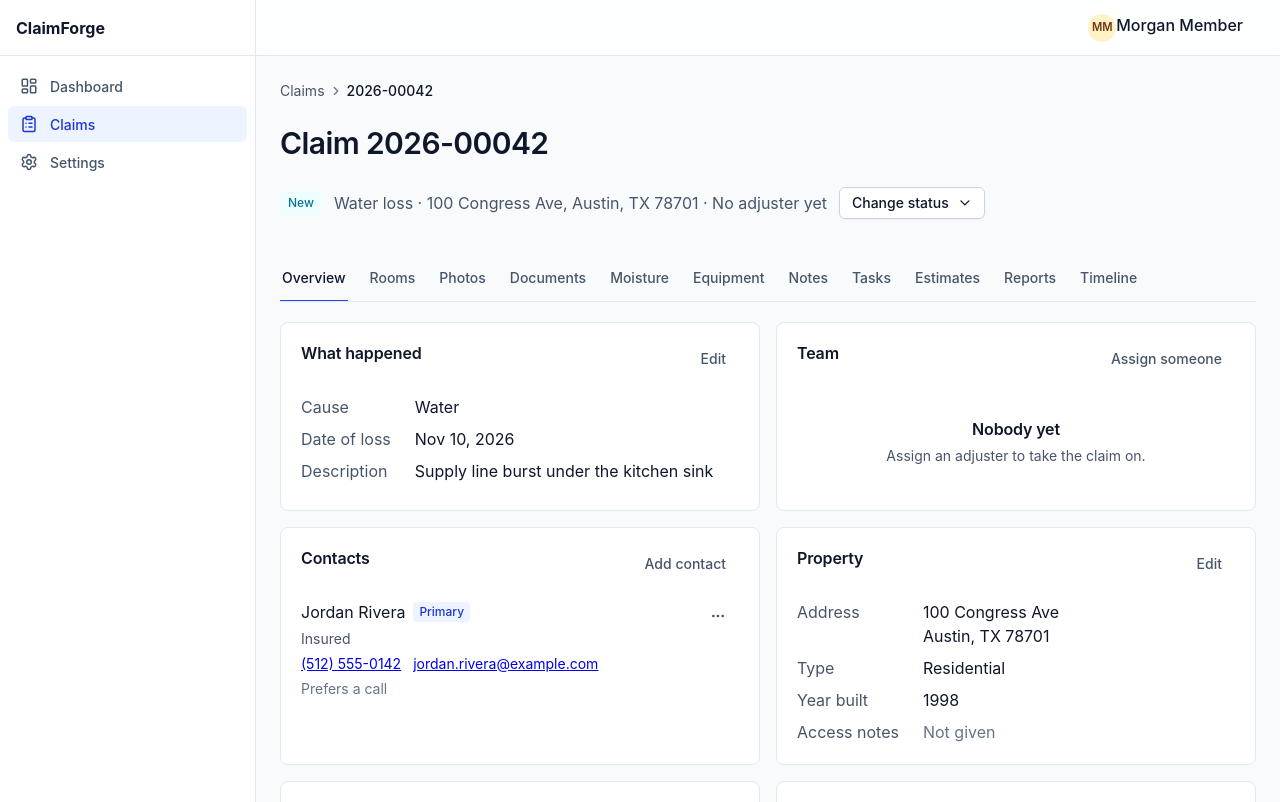
Scenario: changing the status › a move the workflow wants explained asks why first
Click the button "Change status" at (912, 202), box [839,186,986,218]
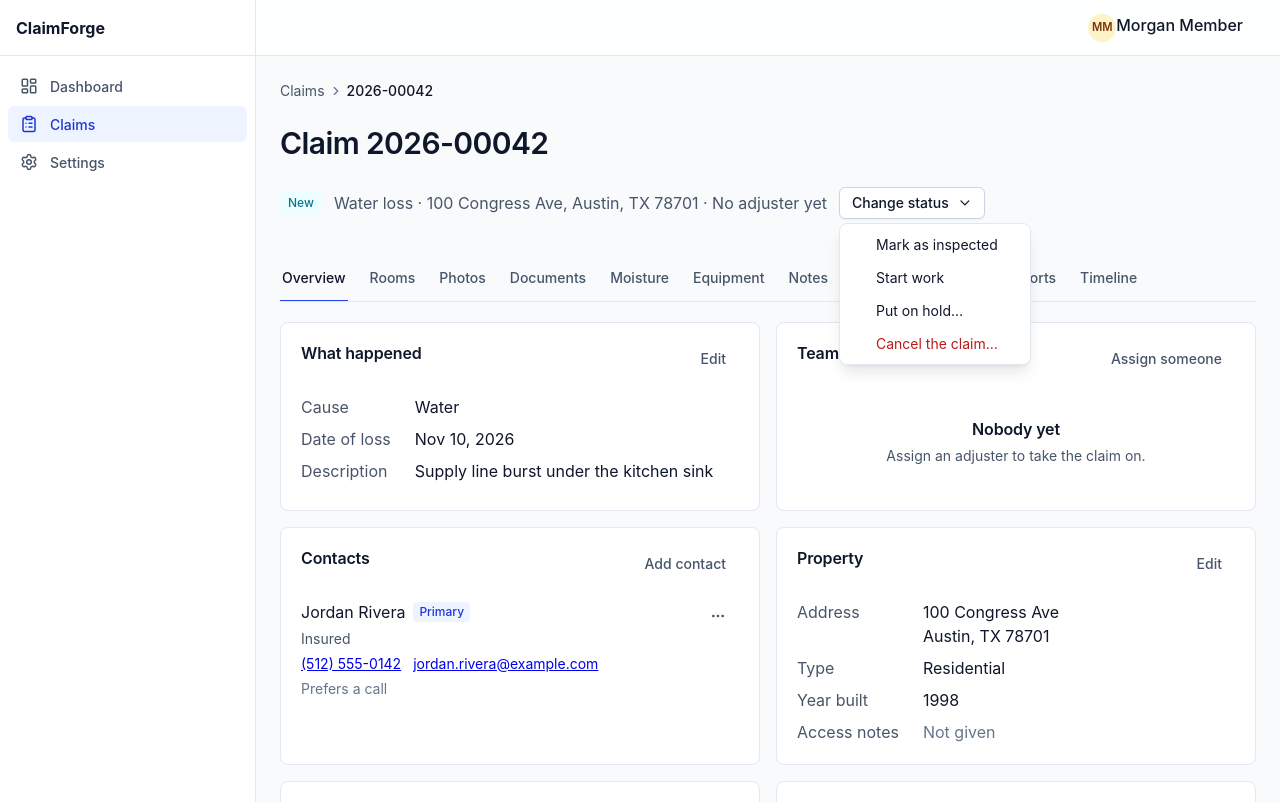
Click the menu item "Put on hold…" at (920, 310), box [876,302,963,319]
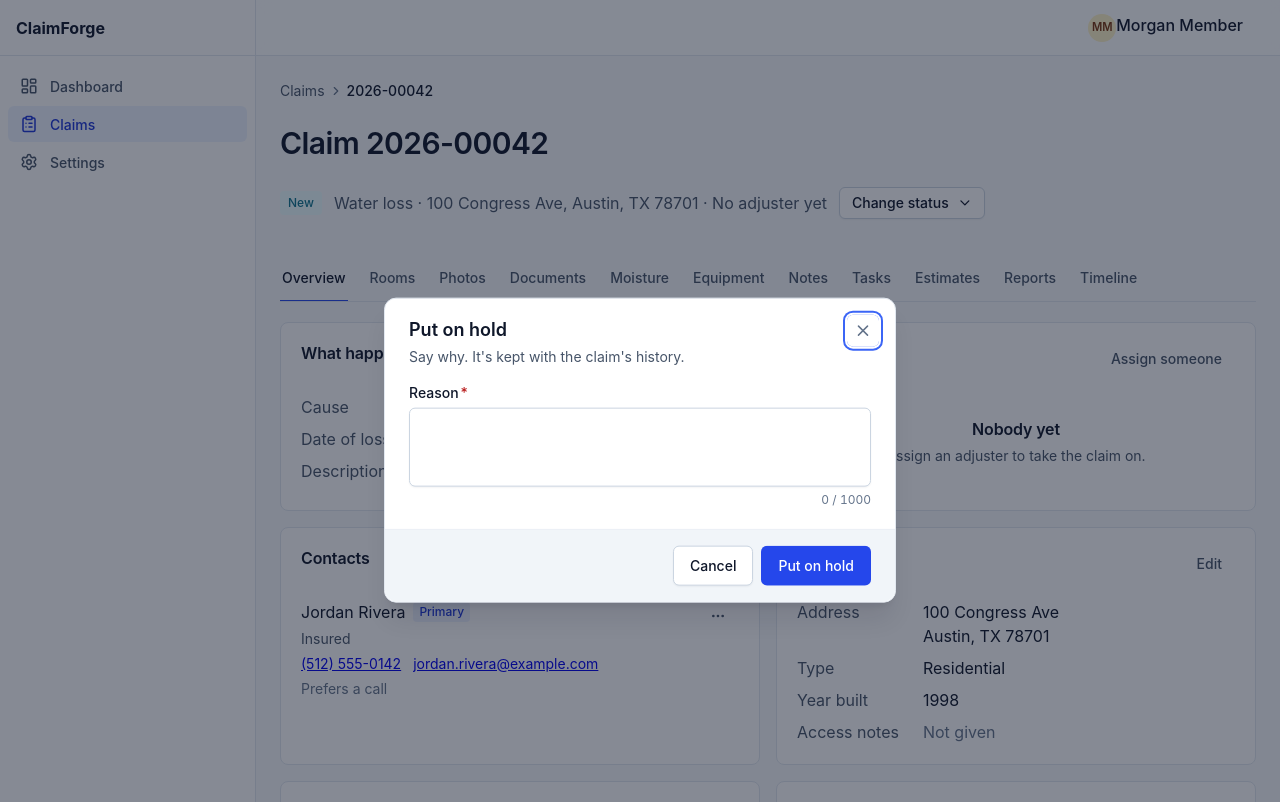
Click the button "Put on hold" at (816, 565), box [761,545,871,585]
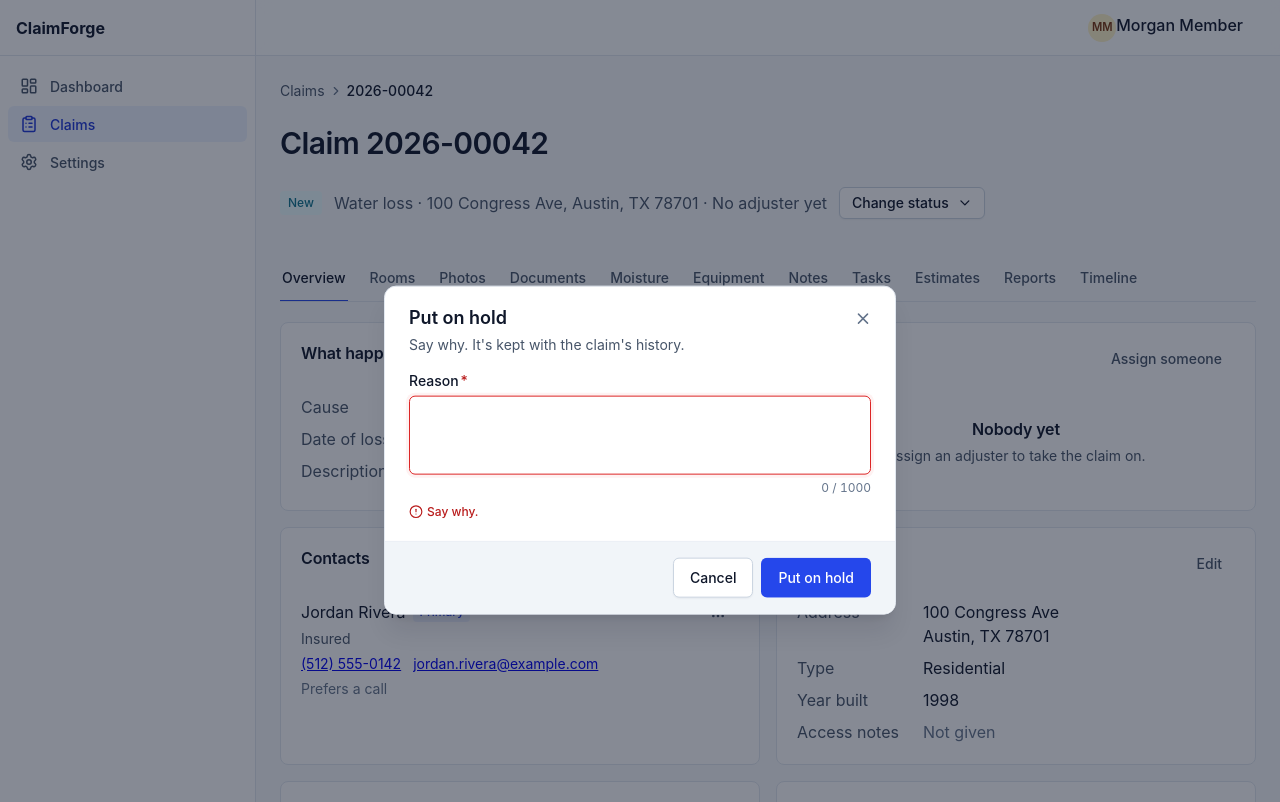
Expected: the text "Say why." is shown, [427,502,478,520]
Type "  Waiting on the carrier " into the text box labelled "Reason*" at (640, 435), box [409,395,871,474]
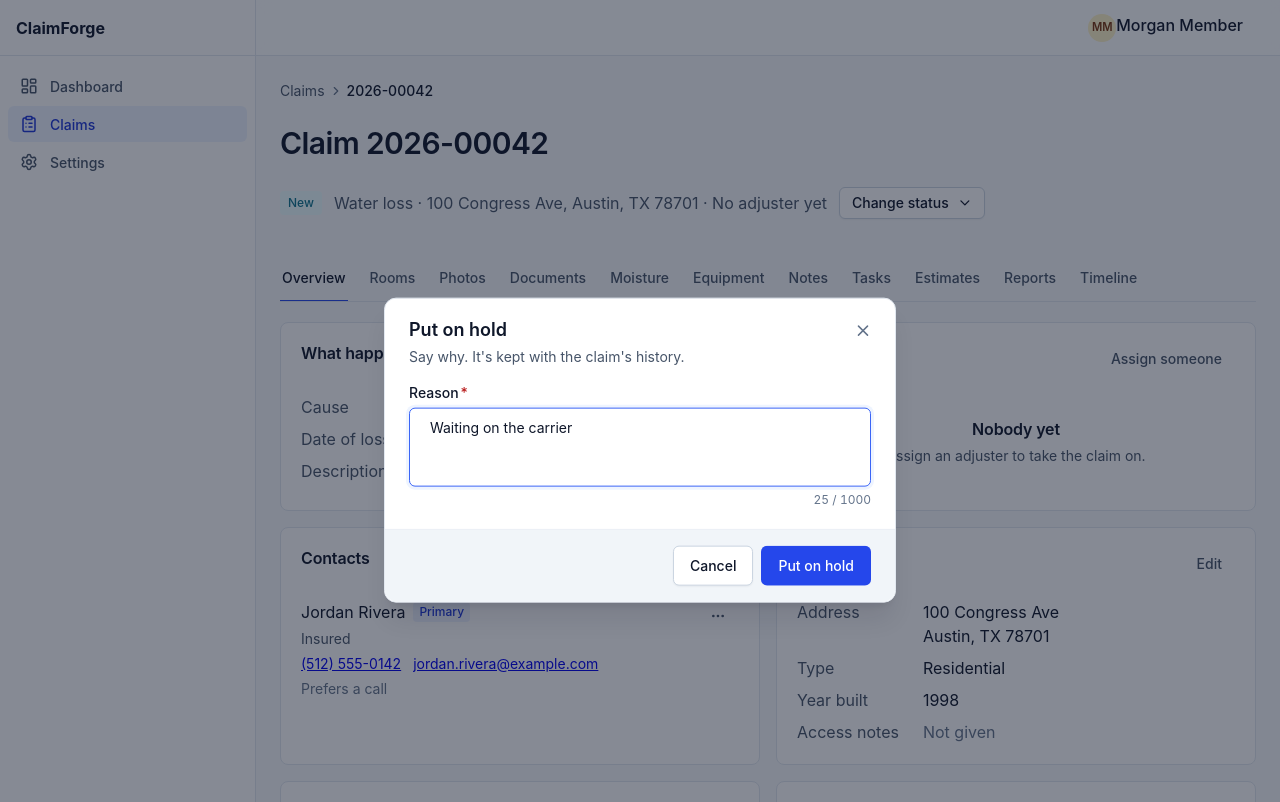
Click the button "Put on hold" at (816, 565), box [761,545,871,585]
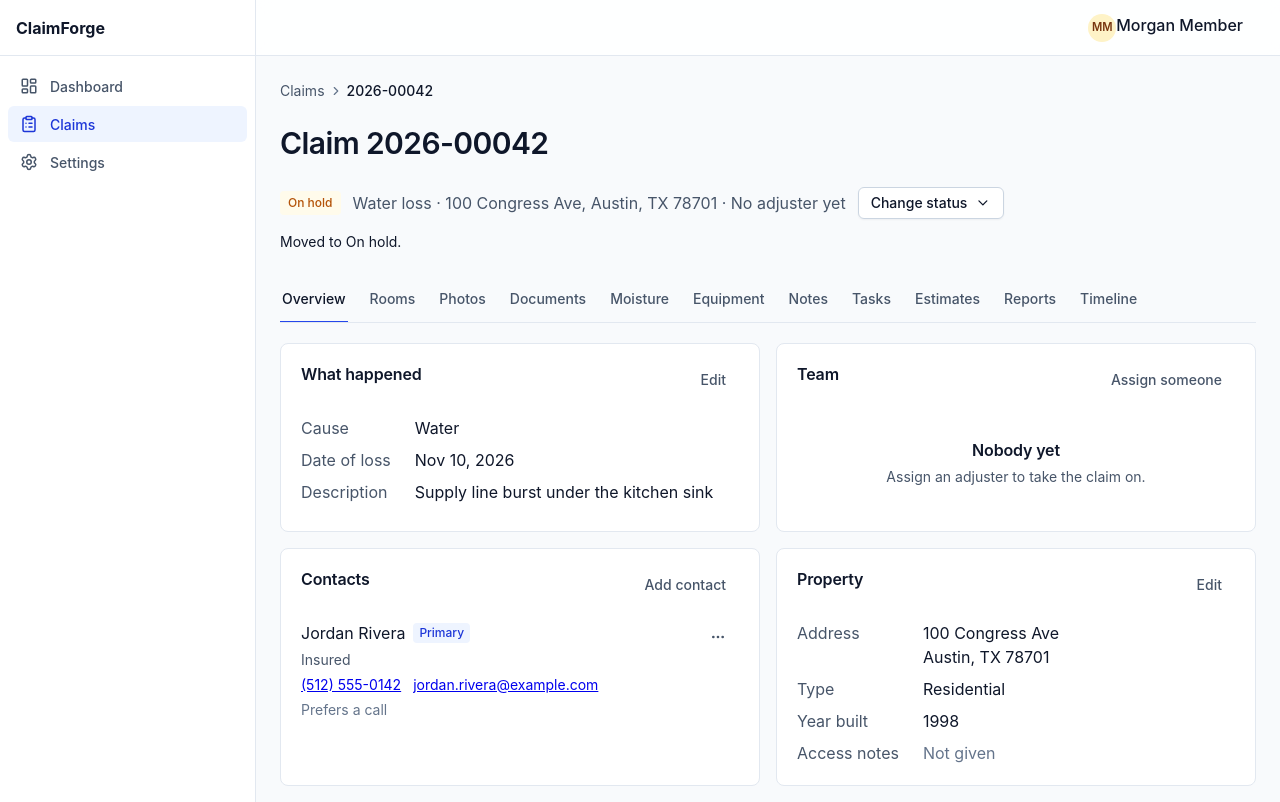
Expected: the dialog is gone
Expected: the message reads "Moved to On hold.", [280,232,401,250]
